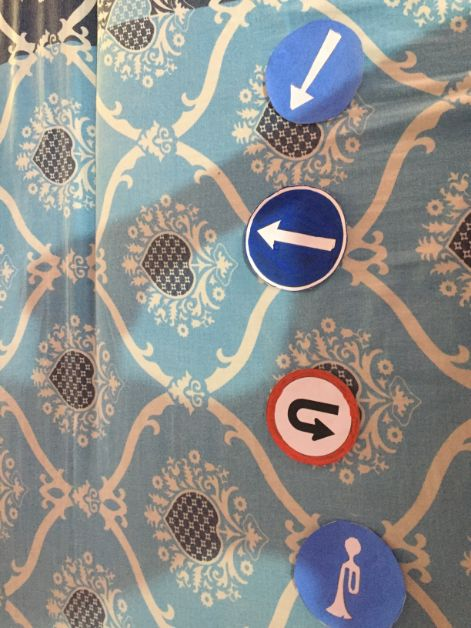blow-horn: (294, 519, 403, 628)
go-stright: (245, 183, 355, 293)
keep-left: (263, 17, 374, 128)
u-turn: (264, 369, 363, 468)
